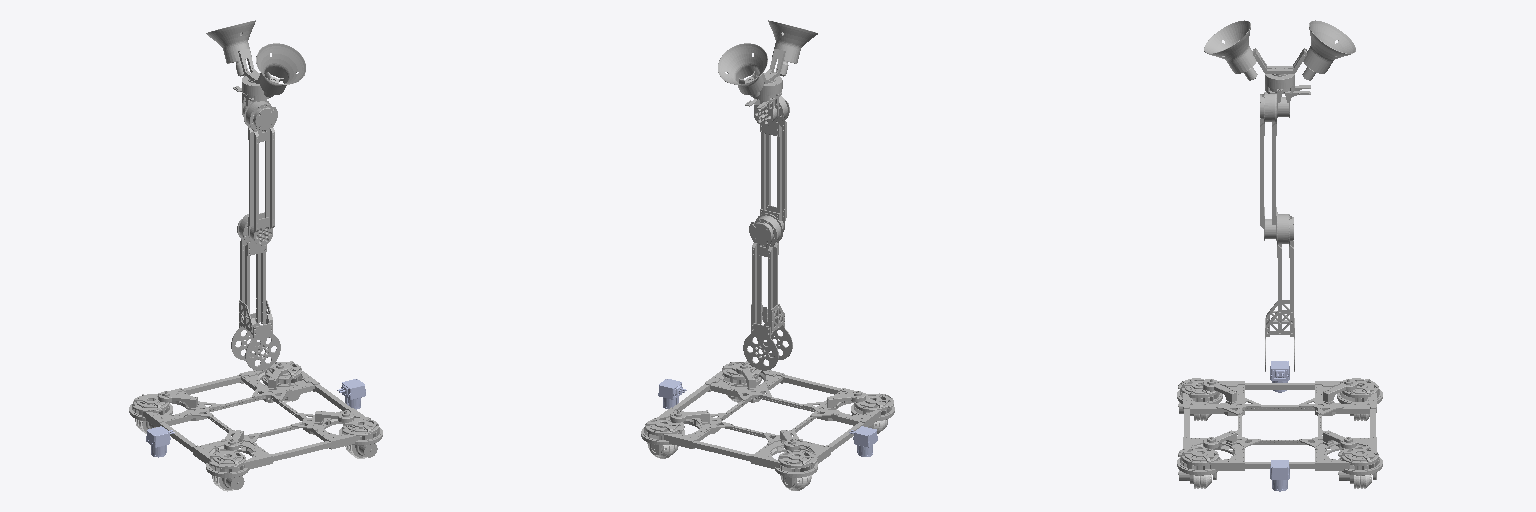
The robot description file, URDF, robot "harurobo_urdf":
<?xml version="1.0" encoding="utf-8"?>
<!-- This URDF was automatically created by SolidWorks to URDF Exporter! Originally created by [author] ([email redacted]) 
     Commit Version: 1.6.0-4-g7f85cfe  Build Version: 1.6.7995.38578
     For more information, please see http://wiki.ros.org/sw_urdf_exporter -->
<robot
  name="harurobo_urdf">
  <link
    name="base_link">
    <inertial>
      <origin
        xyz="2.67496045917338E-06 -4.56843672853348E-06 0.0631981020041447"
        rpy="0 0 0" />
      <mass
        value="8.12607737966139" />
      <inertia
        ixx="0.0100114601886251"
        ixy="9.27649637069347E-07"
        ixz="7.43273886425444E-07"
        iyy="0.0163995938038872"
        iyz="-1.20100989829579E-07"
        izz="0.0249323105882306" />
    </inertial>
    <visual>
      <origin
        xyz="0 0 0"
        rpy="0 0 0" />
      <geometry>
        <mesh
          filename="package://harurobo_urdf/meshes/base_link.STL" />
      </geometry>
      <material
        name="">
        <color
          rgba="0.752941176470588 0.752941176470588 0.752941176470588 1" />
      </material>
    </visual>
    <collision>
      <origin
        xyz="0 0 0"
        rpy="0 0 0" />
      <geometry>
        <mesh
          filename="package://harurobo_urdf/meshes/base_link.STL" />
      </geometry>
    </collision>
  </link>
  <link
    name="steer1">
    <inertial>
      <origin
        xyz="-0.000131914075338635 -0.0122200983849752 -0.0416849527366612"
        rpy="0 0 0" />
      <mass
        value="1.11397042751292" />
      <inertia
        ixx="0.000631499796138263"
        ixy="-3.01039870726499E-06"
        ixz="-5.35159180169525E-08"
        iyy="0.000512110896770031"
        iyz="-6.29881109906847E-07"
        izz="0.000793070567248552" />
    </inertial>
    <visual>
      <origin
        xyz="0 0 0"
        rpy="0 0 0" />
      <geometry>
        <mesh
          filename="package://harurobo_urdf/meshes/steer1.STL" />
      </geometry>
      <material
        name="">
        <color
          rgba="0.752941176470588 0.752941176470588 0.752941176470588 1" />
      </material>
    </visual>
    <collision>
      <origin
        xyz="0 0 0"
        rpy="0 0 0" />
      <geometry>
        <mesh
          filename="package://harurobo_urdf/meshes/steer1.STL" />
      </geometry>
    </collision>
  </link>
  <joint
    name="steer1_joint"
    type="continuous">
    <origin
      xyz="0.207999999999968 -0.208000097092919 0.0875700189392067"
      rpy="0 0 0" />
    <parent
      link="base_link" />
    <child
      link="steer1" />
    <axis
      xyz="0 0 1" />
    <limit
      lower="0"
      upper="0"
      effort="7"
      velocity="40" />
  </joint>
  <link
    name="drive1">
    <inertial>
      <origin
        xyz="1.91334549279332E-06 7.1029293557956E-13 -0.00311266095149038"
        rpy="0 0 0" />
      <mass
        value="0.093012494318941" />
      <inertia
        ixx="5.68163374977129E-05"
        ixy="2.29831116198836E-14"
        ixz="-3.67740278694099E-09"
        iyy="5.6630368123332E-05"
        iyz="-8.66600723091956E-14"
        izz="8.81040187352087E-05" />
    </inertial>
    <visual>
      <origin
        xyz="0 0 0"
        rpy="0 0 0" />
      <geometry>
        <mesh
          filename="package://harurobo_urdf/meshes/drive1.STL" />
      </geometry>
      <material
        name="">
        <color
          rgba="1 1 1 0.35" />
      </material>
    </visual>
    <collision>
      <origin
        xyz="0 0 0"
        rpy="0 0 0" />
      <geometry>
        <mesh
          filename="package://harurobo_urdf/meshes/drive1.STL" />
      </geometry>
    </collision>
  </link>
  <joint
    name="drive1_joint"
    type="continuous">
    <origin
      xyz="0 0.0159999999998658 -0.0475700189392048"
      rpy="1.5707963267949 0 -3.14159265358979" />
    <parent
      link="steer1" />
    <child
      link="drive1" />
    <axis
      xyz="0 0 1" />
    <limit
      effort="4.5"
      velocity="52" />
  </joint>
  <link
    name="steer2">
    <inertial>
      <origin
        xyz="-0.000131914075338885 -0.0122200983849754 -0.0416849527366612"
        rpy="0 0 0" />
      <mass
        value="1.11397042751292" />
      <inertia
        ixx="0.000631499796138263"
        ixy="-3.01039870726439E-06"
        ixz="-5.35159180162515E-08"
        iyy="0.000512110896770031"
        iyz="-6.29881109906686E-07"
        izz="0.000793070567248552" />
    </inertial>
    <visual>
      <origin
        xyz="0 0 0"
        rpy="0 0 0" />
      <geometry>
        <mesh
          filename="package://harurobo_urdf/meshes/steer2.STL" />
      </geometry>
      <material
        name="">
        <color
          rgba="0.752941176470588 0.752941176470588 0.752941176470588 1" />
      </material>
    </visual>
    <collision>
      <origin
        xyz="0 0 0"
        rpy="0 0 0" />
      <geometry>
        <mesh
          filename="package://harurobo_urdf/meshes/steer2.STL" />
      </geometry>
    </collision>
  </link>
  <joint
    name="steer2_joint"
    type="continuous">
    <origin
      xyz="0.207999999999971 0.207999902907081 0.0875700189392056"
      rpy="0 0 0" />
    <parent
      link="base_link" />
    <child
      link="steer2" />
    <axis
      xyz="0 0 1" />
    <limit
      lower="0"
      upper="0"
      effort="7"
      velocity="40" />
  </joint>
  <link
    name="drive2">
    <inertial>
      <origin
        xyz="-1.91334549173861E-06 -7.1283257074839E-13 -0.00311266095149043"
        rpy="0 0 0" />
      <mass
        value="0.0930124943189409" />
      <inertia
        ixx="5.68163374977128E-05"
        ixy="2.29831101400819E-14"
        ixz="3.67740278743847E-09"
        iyy="5.66303681233319E-05"
        iyz="8.66600648046698E-14"
        izz="8.81040187352086E-05" />
    </inertial>
    <visual>
      <origin
        xyz="0 0 0"
        rpy="0 0 0" />
      <geometry>
        <mesh
          filename="package://harurobo_urdf/meshes/drive2.STL" />
      </geometry>
      <material
        name="">
        <color
          rgba="1 1 1 0.35" />
      </material>
    </visual>
    <collision>
      <origin
        xyz="0 0 0"
        rpy="0 0 0" />
      <geometry>
        <mesh
          filename="package://harurobo_urdf/meshes/drive2.STL" />
      </geometry>
    </collision>
  </link>
  <joint
    name="drive2_joint"
    type="continuous">
    <origin
      xyz="0 0.0159999999998657 -0.0475700189392048"
      rpy="1.5707963267949 0 -3.14159265358979" />
    <parent
      link="steer2" />
    <child
      link="drive2" />
    <axis
      xyz="0 0 1" />
    <limit
      effort="4.5"
      velocity="52" />
  </joint>
  <link
    name="steer3">
    <inertial>
      <origin
        xyz="-0.00013191407533894 -0.0122200983849753 -0.0416849527366612"
        rpy="0 0 0" />
      <mass
        value="1.11397042751292" />
      <inertia
        ixx="0.000631499796138263"
        ixy="-3.01039870726399E-06"
        ixz="-5.35159180162424E-08"
        iyy="0.000512110896770031"
        iyz="-6.29881109906866E-07"
        izz="0.000793070567248551" />
    </inertial>
    <visual>
      <origin
        xyz="0 0 0"
        rpy="0 0 0" />
      <geometry>
        <mesh
          filename="package://harurobo_urdf/meshes/steer3.STL" />
      </geometry>
      <material
        name="">
        <color
          rgba="0.752941176470588 0.752941176470588 0.752941176470588 1" />
      </material>
    </visual>
    <collision>
      <origin
        xyz="0 0 0"
        rpy="0 0 0" />
      <geometry>
        <mesh
          filename="package://harurobo_urdf/meshes/steer3.STL" />
      </geometry>
    </collision>
  </link>
  <joint
    name="steer3_joint"
    type="continuous">
    <origin
      xyz="-0.208000000000028 0.207999902907086 0.0875700189392073"
      rpy="0 0 0" />
    <parent
      link="base_link" />
    <child
      link="steer3" />
    <axis
      xyz="0 0 1" />
    <limit
      lower="0"
      upper="0"
      effort="7"
      velocity="40" />
  </joint>
  <link
    name="drive3">
    <inertial>
      <origin
        xyz="-1.91334549168309E-06 -7.14775461041484E-13 -0.00311266095149038"
        rpy="0 0 0" />
      <mass
        value="0.0930124943189411" />
      <inertia
        ixx="5.68163374977129E-05"
        ixy="2.29831100443211E-14"
        ixz="3.67740278744101E-09"
        iyy="5.66303681233321E-05"
        iyz="8.66600648809625E-14"
        izz="8.81040187352087E-05" />
    </inertial>
    <visual>
      <origin
        xyz="0 0 0"
        rpy="0 0 0" />
      <geometry>
        <mesh
          filename="package://harurobo_urdf/meshes/drive3.STL" />
      </geometry>
      <material
        name="">
        <color
          rgba="1 1 1 0.35" />
      </material>
    </visual>
    <collision>
      <origin
        xyz="0 0 0"
        rpy="0 0 0" />
      <geometry>
        <mesh
          filename="package://harurobo_urdf/meshes/drive3.STL" />
      </geometry>
    </collision>
  </link>
  <joint
    name="drive3_joint"
    type="continuous">
    <origin
      xyz="0 0.0159999999998658 -0.0475700189392048"
      rpy="1.5707963267949 0 -3.14159265358978" />
    <parent
      link="steer3" />
    <child
      link="drive3" />
    <axis
      xyz="0 0 1" />
    <limit
      effort="4.5"
      velocity="52" />
  </joint>
  <link
    name="steer4">
    <inertial>
      <origin
        xyz="-0.000131914075338829 -0.0122200983849753 -0.0416849527366611"
        rpy="0 0 0" />
      <mass
        value="1.11397042751293" />
      <inertia
        ixx="0.000631499796138263"
        ixy="-3.01039870726301E-06"
        ixz="-5.35159180162301E-08"
        iyy="0.000512110896770031"
        iyz="-6.29881109906814E-07"
        izz="0.000793070567248552" />
    </inertial>
    <visual>
      <origin
        xyz="0 0 0"
        rpy="0 0 0" />
      <geometry>
        <mesh
          filename="package://harurobo_urdf/meshes/steer4.STL" />
      </geometry>
      <material
        name="">
        <color
          rgba="0.752941176470588 0.752941176470588 0.752941176470588 1" />
      </material>
    </visual>
    <collision>
      <origin
        xyz="0 0 0"
        rpy="0 0 0" />
      <geometry>
        <mesh
          filename="package://harurobo_urdf/meshes/steer4.STL" />
      </geometry>
    </collision>
  </link>
  <joint
    name="steer4_joint"
    type="continuous">
    <origin
      xyz="-0.208000000000032 -0.208000097092915 0.0875700189392075"
      rpy="0 0 0" />
    <parent
      link="base_link" />
    <child
      link="steer4" />
    <axis
      xyz="0 0 1" />
    <limit
      lower="0"
      upper="0"
      effort="7"
      velocity="40" />
  </joint>
  <link
    name="drive4">
    <inertial>
      <origin
        xyz="1.91334549271005E-06 7.09418634947667E-13 -0.00311266095149029"
        rpy="0 0 0" />
      <mass
        value="0.093012494318941" />
      <inertia
        ixx="5.68163374977129E-05"
        ixy="2.29831101520685E-14"
        ixz="-3.67740278666812E-09"
        iyy="5.6630368123332E-05"
        iyz="-8.66600537156269E-14"
        izz="8.81040187352087E-05" />
    </inertial>
    <visual>
      <origin
        xyz="0 0 0"
        rpy="0 0 0" />
      <geometry>
        <mesh
          filename="package://harurobo_urdf/meshes/drive4.STL" />
      </geometry>
      <material
        name="">
        <color
          rgba="1 1 1 0.35" />
      </material>
    </visual>
    <collision>
      <origin
        xyz="0 0 0"
        rpy="0 0 0" />
      <geometry>
        <mesh
          filename="package://harurobo_urdf/meshes/drive4.STL" />
      </geometry>
    </collision>
  </link>
  <joint
    name="drive4_joint"
    type="continuous">
    <origin
      xyz="0 0.0159999999998658 -0.0475700189392048"
      rpy="1.5707963267949 0 -3.14159265358978" />
    <parent
      link="steer4" />
    <child
      link="drive4" />
    <axis
      xyz="0 0 1" />
    <limit
      effort="4.5"
      velocity="52" />
  </joint>
  <link
    name="yaw">
    <inertial>
      <origin
        xyz="-1.67087799125077E-05 -0.00617563548948005 0.156967295931179"
        rpy="0 0 0" />
      <mass
        value="1.30092636553083" />
      <inertia
        ixx="0.00111457812748623"
        ixy="7.43284198526836E-07"
        ixz="-5.74105827120733E-07"
        iyy="0.00176503755890846"
        iyz="-1.26003348184023E-07"
        izz="0.00122207295014221" />
    </inertial>
    <visual>
      <origin
        xyz="0 0 0"
        rpy="0 0 0" />
      <geometry>
        <mesh
          filename="package://harurobo_urdf/meshes/yaw.STL" />
      </geometry>
      <material
        name="">
        <color
          rgba="0.752941176470588 0.752941176470588 0.752941176470588 1" />
      </material>
    </visual>
    <collision>
      <origin
        xyz="0 0 0"
        rpy="0 0 0" />
      <geometry>
        <mesh
          filename="package://harurobo_urdf/meshes/yaw.STL" />
      </geometry>
    </collision>
  </link>
  <joint
    name="yaw_joint"
    type="revolute">
    <origin
      xyz="0 0 0.0895"
      rpy="0 0 -3.1416" />
    <parent
      link="base_link" />
    <child
      link="yaw" />
    <axis
      xyz="0 0 1" />
    <limit
      lower="-3.14"
      upper="3.14"
      effort="60"
      velocity="20" />
  </joint>
  <link
    name="link1">
    <inertial>
      <origin
        xyz="-3.86169301738164E-05 0.153820696132801 -0.0290964688020568"
        rpy="0 0 0" />
      <mass
        value="0.413448883585382" />
      <inertia
        ixx="0.000801942890060389"
        ixy="-3.10824357403203E-08"
        ixz="-7.71963697131109E-09"
        iyy="0.000193252266125794"
        iyz="-4.93301152958948E-06"
        izz="0.00094626586845113" />
    </inertial>
    <visual>
      <origin
        xyz="0 0 0"
        rpy="0 0 0" />
      <geometry>
        <mesh
          filename="package://harurobo_urdf/meshes/link1.STL" />
      </geometry>
      <material
        name="">
        <color
          rgba="0.752941176470588 0.752941176470588 0.752941176470588 1" />
      </material>
    </visual>
    <collision>
      <origin
        xyz="0 0 0"
        rpy="0 0 0" />
      <geometry>
        <mesh
          filename="package://harurobo_urdf/meshes/link1.STL" />
      </geometry>
    </collision>
  </link>
  <joint
    name="link1_joint"
    type="revolute">
    <origin
      xyz="0 -0.0355 0.2038"
      rpy="1.5708 0 0" />
    <parent
      link="yaw" />
    <child
      link="link1" />
    <axis
      xyz="0 0 1" />
    <limit
      lower="-1.57"
      upper="1.57"
      effort="60"
      velocity="20" />
  </joint>
  <link
    name="link2">
    <inertial>
      <origin
        xyz="-5.81656459177063E-05 0.17352915133823 0.0202636064078678"
        rpy="0 0 0" />
      <mass
        value="0.335500467436985" />
      <inertia
        ixx="0.000832975299632838"
        ixy="-3.13006982182821E-08"
        ixz="-7.74753156936722E-09"
        iyy="9.55872944932859E-05"
        iyz="-1.44797410718399E-07"
        izz="0.000915549886373291" />
    </inertial>
    <visual>
      <origin
        xyz="0 0 0"
        rpy="0 0 0" />
      <geometry>
        <mesh
          filename="package://harurobo_urdf/meshes/link2.STL" />
      </geometry>
      <material
        name="">
        <color
          rgba="0.752941176470588 0.752941176470588 0.752941176470588 1" />
      </material>
    </visual>
    <collision>
      <origin
        xyz="0 0 0"
        rpy="0 0 0" />
      <geometry>
        <mesh
          filename="package://harurobo_urdf/meshes/link2.STL" />
      </geometry>
    </collision>
  </link>
  <joint
    name="link2_joint"
    type="revolute">
    <origin
      xyz="0 0.35 -0.043"
      rpy="-3.1416 0 3.1416" />
    <parent
      link="link1" />
    <child
      link="link2" />
    <axis
      xyz="0 0 1" />
    <limit
      lower="-2.6"
      upper="2.6"
      effort="17"
      velocity="40" />
  </joint>
  <link
    name="link3">
    <inertial>
      <origin
        xyz="0.000269309778735556 0.0335450952463393 0.0156819214252716"
        rpy="0 0 0" />
      <mass
        value="0.187112293867213" />
      <inertia
        ixx="8.49841173814658E-05"
        ixy="1.81382391226905E-07"
        ixz="2.36693194540593E-08"
        iyy="0.000100054160369426"
        iyz="3.49984771337275E-07"
        izz="9.9075305000463E-05" />
    </inertial>
    <visual>
      <origin
        xyz="0 0 0"
        rpy="0 0 0" />
      <geometry>
        <mesh
          filename="package://harurobo_urdf/meshes/link3.STL" />
      </geometry>
      <material
        name="">
        <color
          rgba="0.752941176470588 0.752941176470588 0.752941176470588 1" />
      </material>
    </visual>
    <collision>
      <origin
        xyz="0 0 0"
        rpy="0 0 0" />
      <geometry>
        <mesh
          filename="package://harurobo_urdf/meshes/link3.STL" />
      </geometry>
    </collision>
  </link>
  <joint
    name="link3_joint"
    type="revolute">
    <origin
      xyz="0 0.35 0.001"
      rpy="-3.1416 0 3.1416" />
    <parent
      link="link2" />
    <child
      link="link3" />
    <axis
      xyz="0 0 1" />
    <limit
      lower="-2.6"
      upper="2.6"
      effort="17"
      velocity="40" />
  </joint>
  <link
    name="wrist">
    <inertial>
      <origin
        xyz="-6.12530859367411E-15 3.05311331771918E-16 0.0158403560576658"
        rpy="0 0 0" />
      <mass
        value="0.570510900142287" />
      <inertia
        ixx="0.000359653671792427"
        ixy="3.47069070799362E-09"
        ixz="-2.22702544244164E-19"
        iyy="0.000324392757746536"
        iyz="-7.79517726499715E-18"
        izz="0.000305564475837379" />
    </inertial>
    <visual>
      <origin
        xyz="0 0 0"
        rpy="0 0 0" />
      <geometry>
        <mesh
          filename="package://harurobo_urdf/meshes/wrist.STL" />
      </geometry>
      <material
        name="">
        <color
          rgba="0.752941176470588 0.752941176470588 0.752941176470588 1" />
      </material>
    </visual>
    <collision>
      <origin
        xyz="0 0 0"
        rpy="0 0 0" />
      <geometry>
        <mesh
          filename="package://harurobo_urdf/meshes/wrist.STL" />
      </geometry>
    </collision>
  </link>
  <joint
    name="wrist_joint"
    type="revolute">
    <origin
      xyz="0 0.1005 0.0085"
      rpy="-1.5708 0 0" />
    <parent
      link="link3" />
    <child
      link="wrist" />
    <axis
      xyz="0 0 1" />
    <limit
      lower="-1.57"
      upper="1.57"
      effort="17"
      velocity="40" />
  </joint>
  <link
    name="lidar_front">
    <inertial>
      <origin
        xyz="-0.000875942129414053 1.59517862275554E-06 -0.0184520674037893"
        rpy="0 0 0" />
      <mass
        value="0.134971480140515" />
      <inertia
        ixx="7.17311397948797E-05"
        ixy="3.61353684666094E-08"
        ixz="-5.22609364901706E-07"
        iyy="7.50102953432281E-05"
        iyz="2.29503367509721E-09"
        izz="4.71156230253611E-05" />
    </inertial>
    <visual>
      <origin
        xyz="0 0 0"
        rpy="0 0 0" />
      <geometry>
        <mesh
          filename="package://harurobo_urdf/meshes/lidar_front.STL" />
      </geometry>
      <material
        name="">
        <color
          rgba="0.792156862745098 0.819607843137255 0.933333333333333 1" />
      </material>
    </visual>
    <collision>
      <origin
        xyz="0 0 0"
        rpy="0 0 0" />
      <geometry>
        <mesh
          filename="package://harurobo_urdf/meshes/lidar_front.STL" />
      </geometry>
    </collision>
  </link>
  <joint
    name="lidar_front_joint"
    type="fixed">
    <origin
      xyz="0.3052 0 0.0636"
      rpy="3.1416 0 0" />
    <parent
      link="base_link" />
    <child
      link="lidar_front" />
    <axis
      xyz="0 0 0" />
  </joint>
  <link
    name="lidar_back">
    <inertial>
      <origin
        xyz="-0.000875942129415663 1.59517862493783E-06 -0.0184520674037892"
        rpy="0 0 0" />
      <mass
        value="0.134971480140515" />
      <inertia
        ixx="7.17311397948796E-05"
        ixy="3.61353684667393E-08"
        ixz="-5.22609364901725E-07"
        iyy="7.50102953432279E-05"
        iyz="2.2950336751094E-09"
        izz="4.7115623025361E-05" />
    </inertial>
    <visual>
      <origin
        xyz="0 0 0"
        rpy="0 0 0" />
      <geometry>
        <mesh
          filename="package://harurobo_urdf/meshes/lidar_back.STL" />
      </geometry>
      <material
        name="">
        <color
          rgba="0.792156862745098 0.819607843137255 0.933333333333333 1" />
      </material>
    </visual>
    <collision>
      <origin
        xyz="0 0 0"
        rpy="0 0 0" />
      <geometry>
        <mesh
          filename="package://harurobo_urdf/meshes/lidar_back.STL" />
      </geometry>
    </collision>
  </link>
  <joint
    name="lidar_back_joint"
    type="fixed">
    <origin
      xyz="-0.3052 0 0.0635999999999999"
      rpy="-3.14159265358979 0 -3.14159265358976" />
    <parent
      link="base_link" />
    <child
      link="lidar_back" />
    <axis
      xyz="0 0 0" />
  </joint>
</robot>

--- Render facts (derived) ---
3 views of the same robot in one strip: view 1: azimuth 30°, elevation 25°; view 2: azimuth 150°, elevation 25°; view 3: azimuth 270°, elevation 25° (orthographic).
Model harurobo_urdf with 16 links and 15 joints (5 revolute, 8 continuous, 2 fixed), rooted at base_link, posed all joints at 0.
Visible links, largest first — view 1: base_link, link1, wrist, link2, steer4, steer1, steer3, steer2, lidar_back, lidar_front, link3; view 2: base_link, link1, wrist, link2, steer3, link3, steer2, steer4, lidar_back, steer1, lidar_front; view 3: base_link, wrist, link1, link2, steer1, steer2, link3, steer4, steer3, lidar_front.
Link boxes in pixels (box(x1,y1,x2,y2)): base_link: box(140, 363, 372, 469); link1: box(231, 214, 280, 370); wrist: box(206, 20, 305, 97); link2: box(244, 100, 277, 245); steer4: box(206, 450, 248, 489); steer1: box(339, 417, 382, 457); steer3: box(129, 394, 172, 432); steer2: box(262, 361, 301, 401); lidar_back: box(146, 426, 174, 457); lidar_front: box(337, 379, 365, 409); link3: box(233, 76, 268, 116); base_link: box(651, 363, 883, 468); link1: box(743, 213, 792, 370); wrist: box(718, 20, 817, 97); link2: box(760, 96, 789, 231); steer3: box(775, 450, 817, 487); link3: box(745, 76, 782, 125); steer2: box(641, 417, 684, 454); steer4: box(851, 393, 894, 427); lidar_back: box(849, 426, 877, 456); steer1: box(722, 361, 761, 398); lidar_front: box(658, 379, 686, 408); base_link: box(1183, 379, 1376, 470); wrist: box(1204, 20, 1355, 80); link1: box(1265, 212, 1294, 371); link2: box(1260, 92, 1276, 240); steer1: box(1177, 446, 1221, 483); steer2: box(1338, 446, 1382, 483); link3: box(1265, 74, 1310, 117); steer4: box(1177, 378, 1222, 415); steer3: box(1337, 378, 1382, 415); lidar_front: box(1270, 460, 1289, 491).
Bounding box of the posed robot: 0.6604 × 0.536 × 1.23 m (x, y, z).
15 mesh visuals loaded from 16 distinct referenced files (15 binary STL); not drawn: 1 (reference not matched to a file when rendering).
